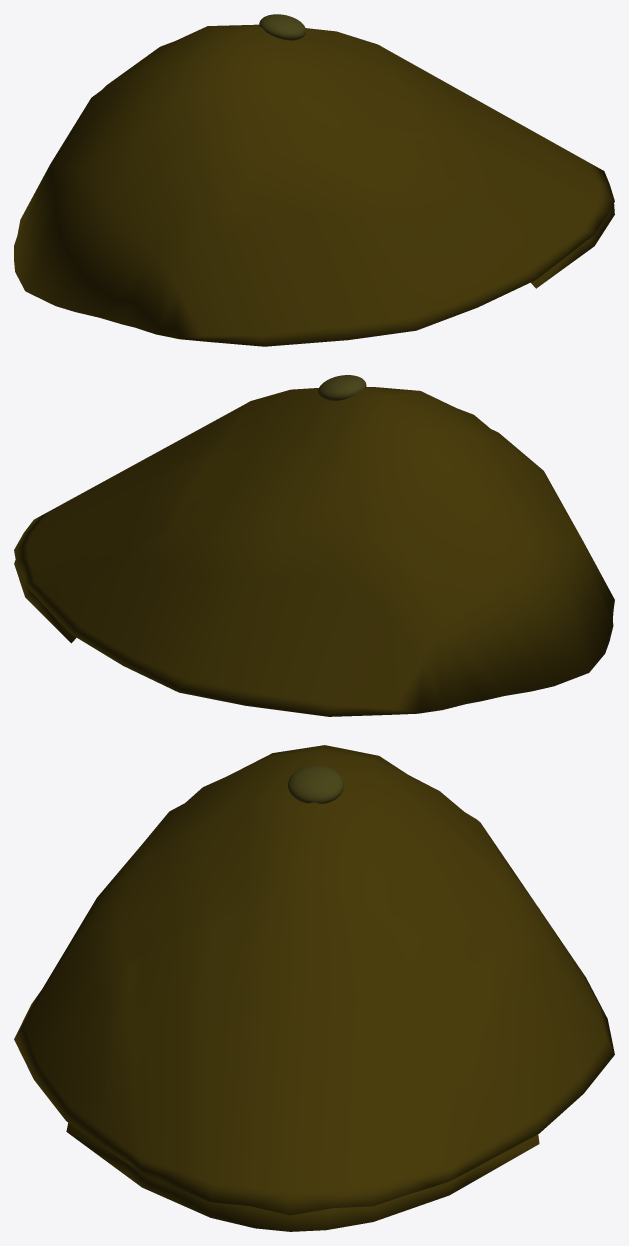
Rendered from boina.fbx.
3 views of the same model, one above another, from view 1: azimuth 30°, elevation 25°; view 2: azimuth 150°, elevation 25°; view 3: azimuth 270°, elevation 25° (orthographic). The views are drawn at different scales.
Visible parts, largest first — view 1: boina pulida; view 2: boina pulida; view 3: boina pulida.
Boxes of the visible parts, x1,y1,x2,y2 form: boina pulida: (14, 14, 614, 346); boina pulida: (14, 375, 614, 716); boina pulida: (14, 745, 614, 1231).
Size of the model in its own units: 497 by 200 by 390.
